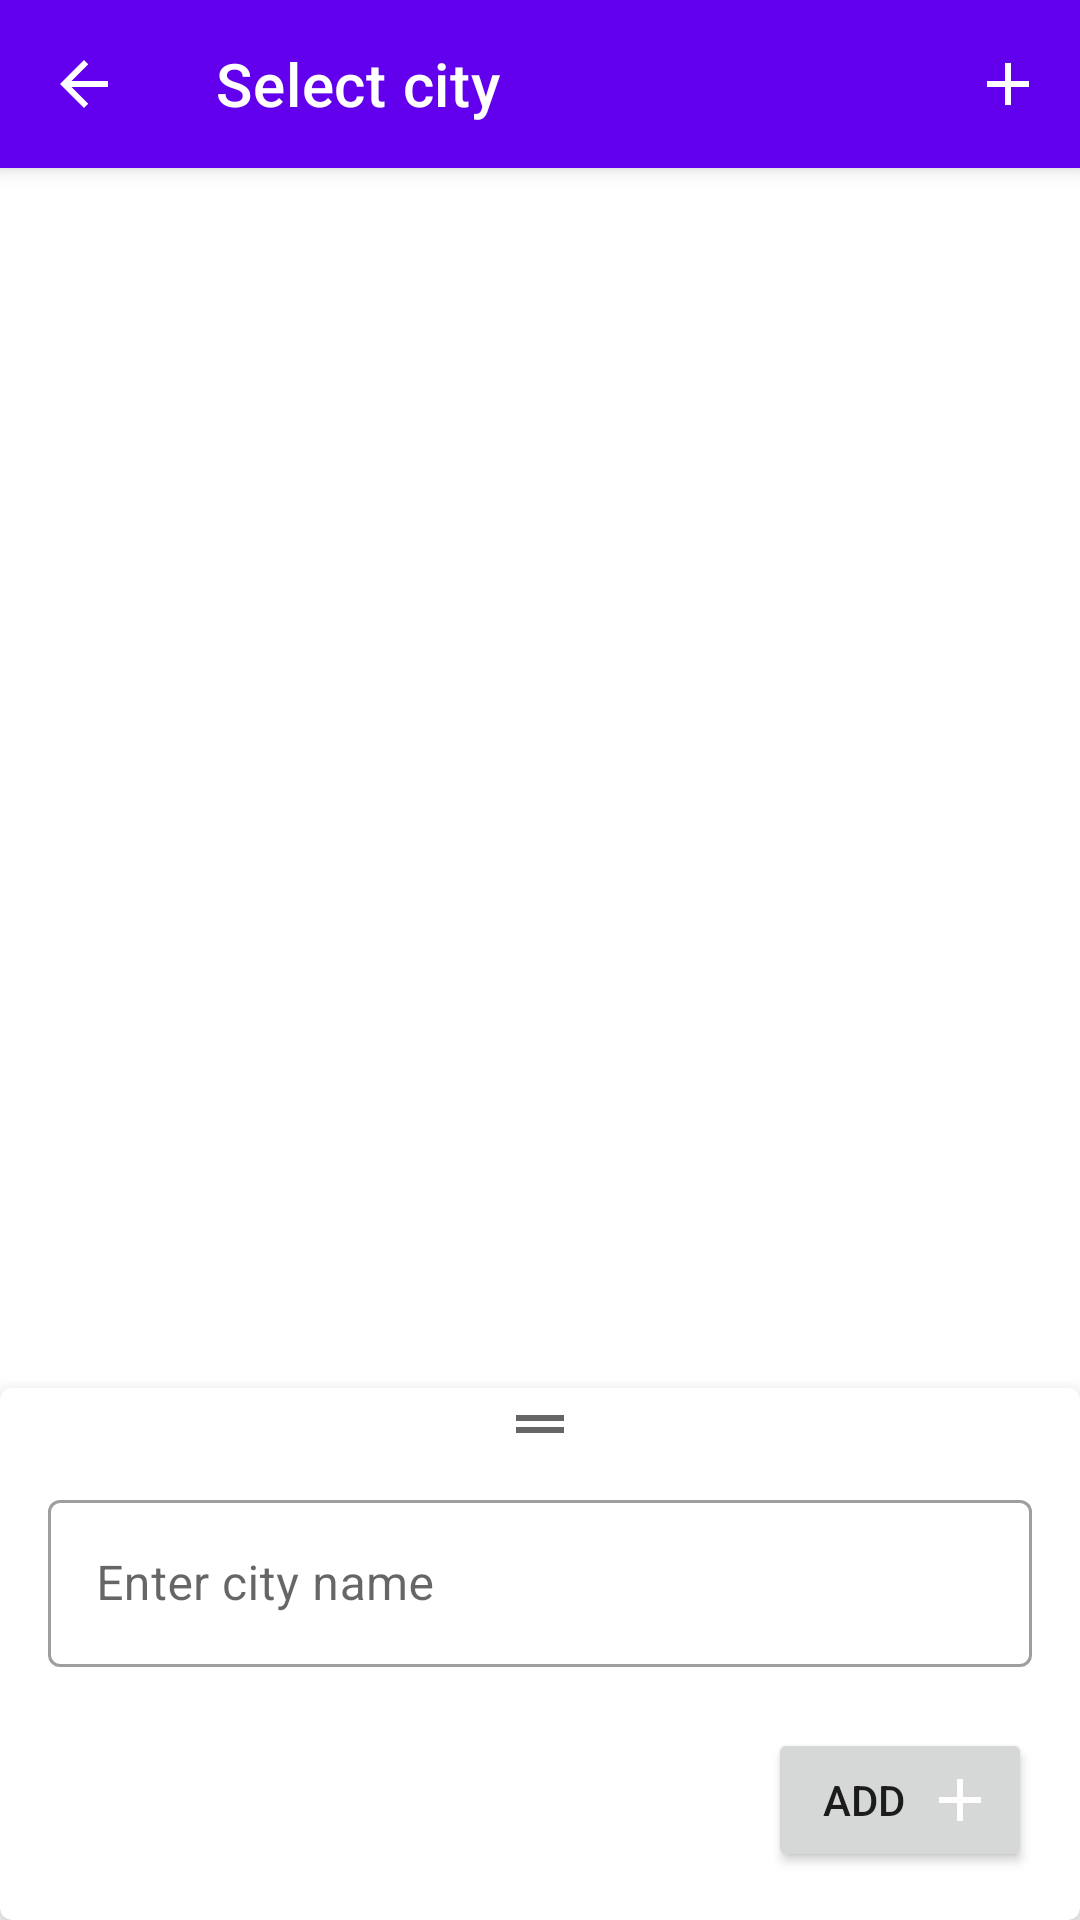

Icons on this 1080px×1920px Android screen, each with the point to tap as [x,y]:
drag handle: [540,1424]
